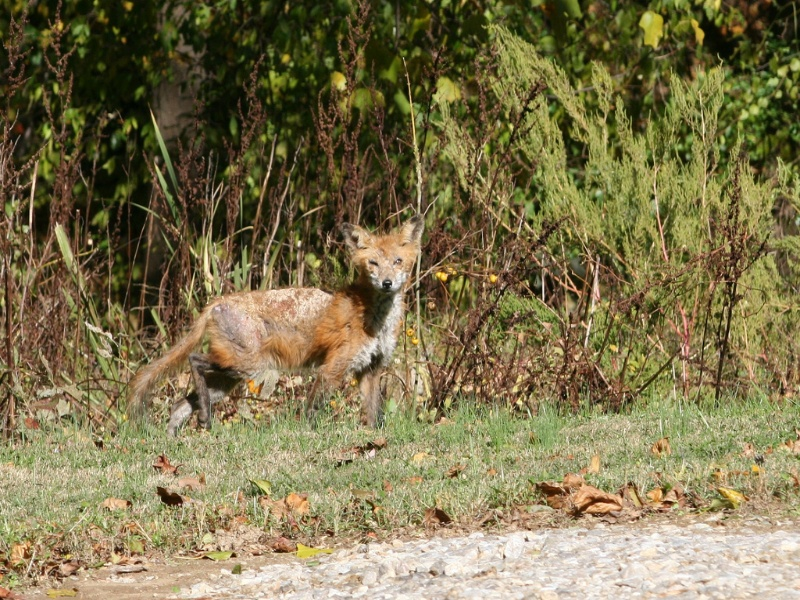fox: (128, 211, 428, 435)
